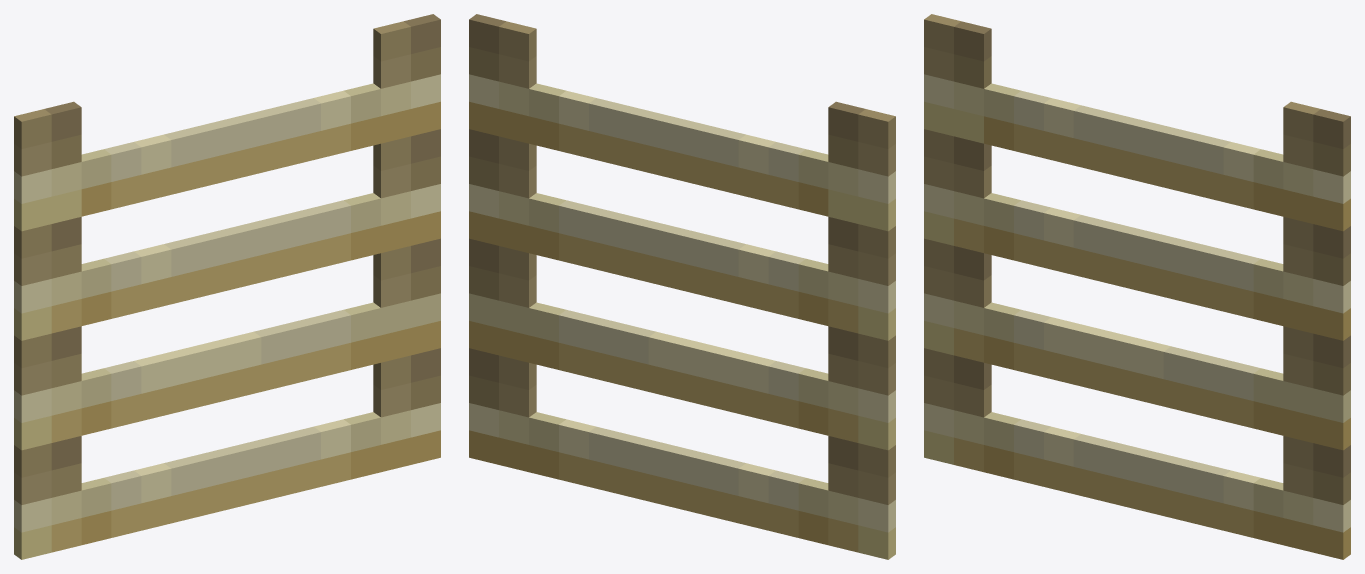
The model's file is Aspen Ladder.glb.
3 views of the same model, side by side, from view 1: azimuth 30°, elevation 25°; view 2: azimuth 150°, elevation 25°; view 3: azimuth 330°, elevation 25° (orthographic).
Parts seen in each view (by area): view 1: generated(Clone); view 2: generated(Clone); view 3: generated(Clone).
Boxes of the visible parts, x1,y1,x2,y2 form: generated(Clone): (14,14,440,559); generated(Clone): (469,14,895,559); generated(Clone): (924,14,1350,559).
Size of the model in its own units: 0.8005 by 0.7993 by 0.025.
Materials: 1 (1 with a texture image).
